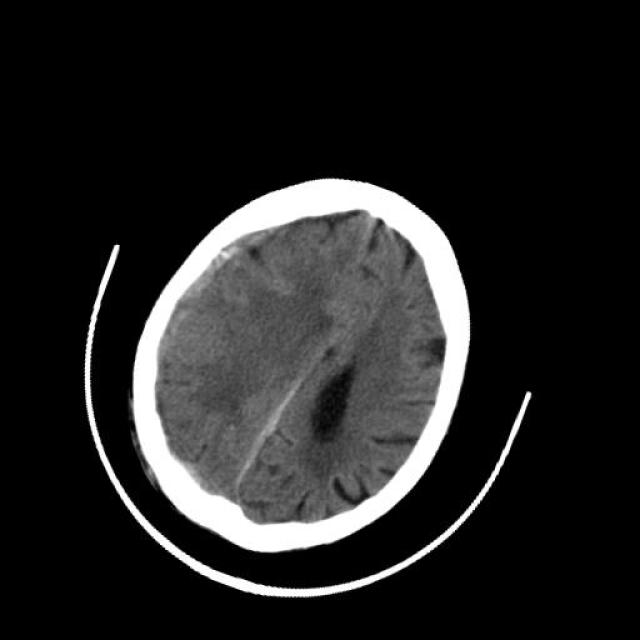Subdural: (138, 197, 262, 373), (202, 360, 308, 505)
